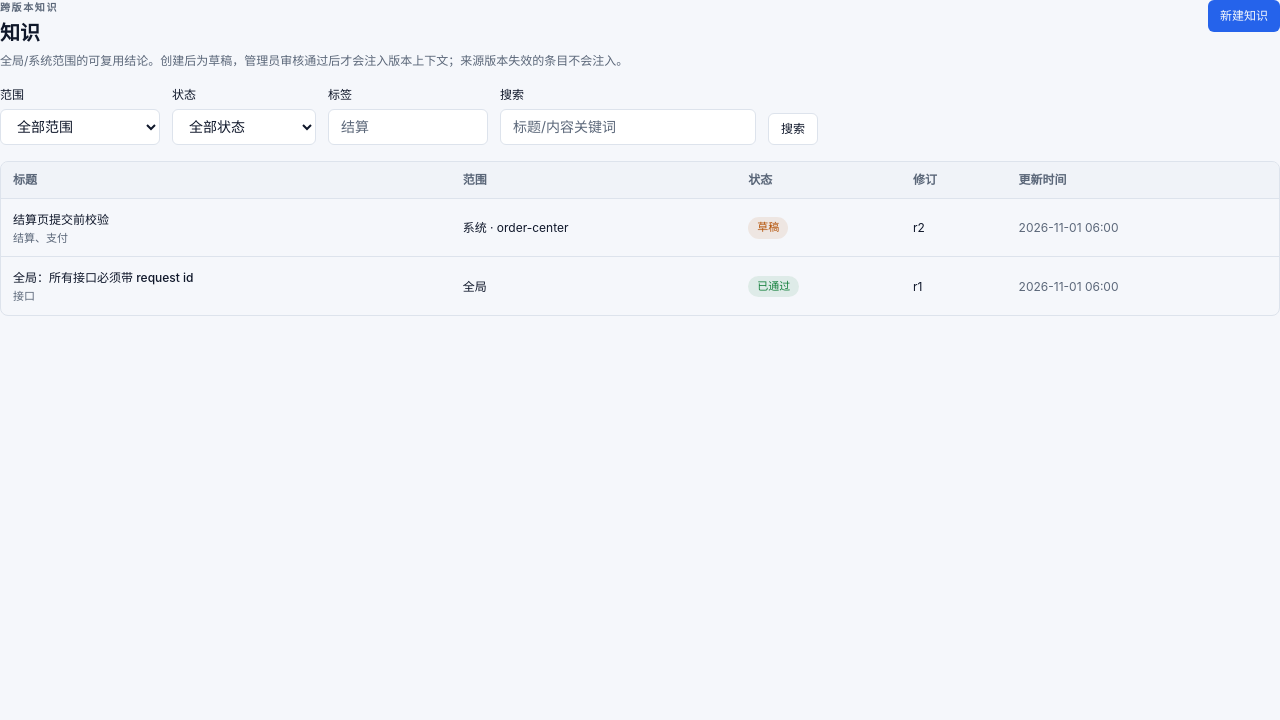
Test: KnowledgePage › opens the detail dialog for a row
Click the button with test id "knowledge-item-7001" at x=61, y=220, box [13,212,109,228]
(page scrolled)
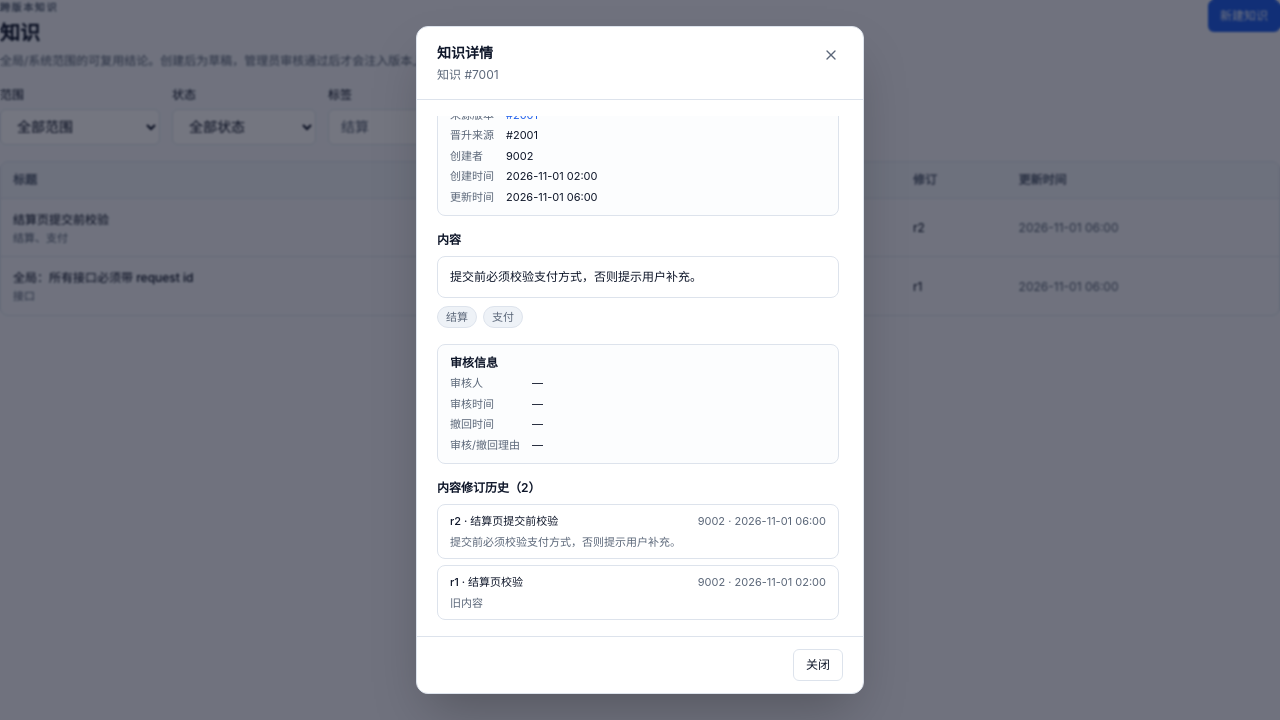
Check: the element with test id "knowledge-detail" is shown, box [437,116,843,620]
Check: the text with test id "knowledge-content" reads "提交前必须校验支付方式，否则提示用户补充。", box [450,269,702,284]
Check: the element with test id "knowledge-revisions" shows "r1", box [437,480,839,620]
